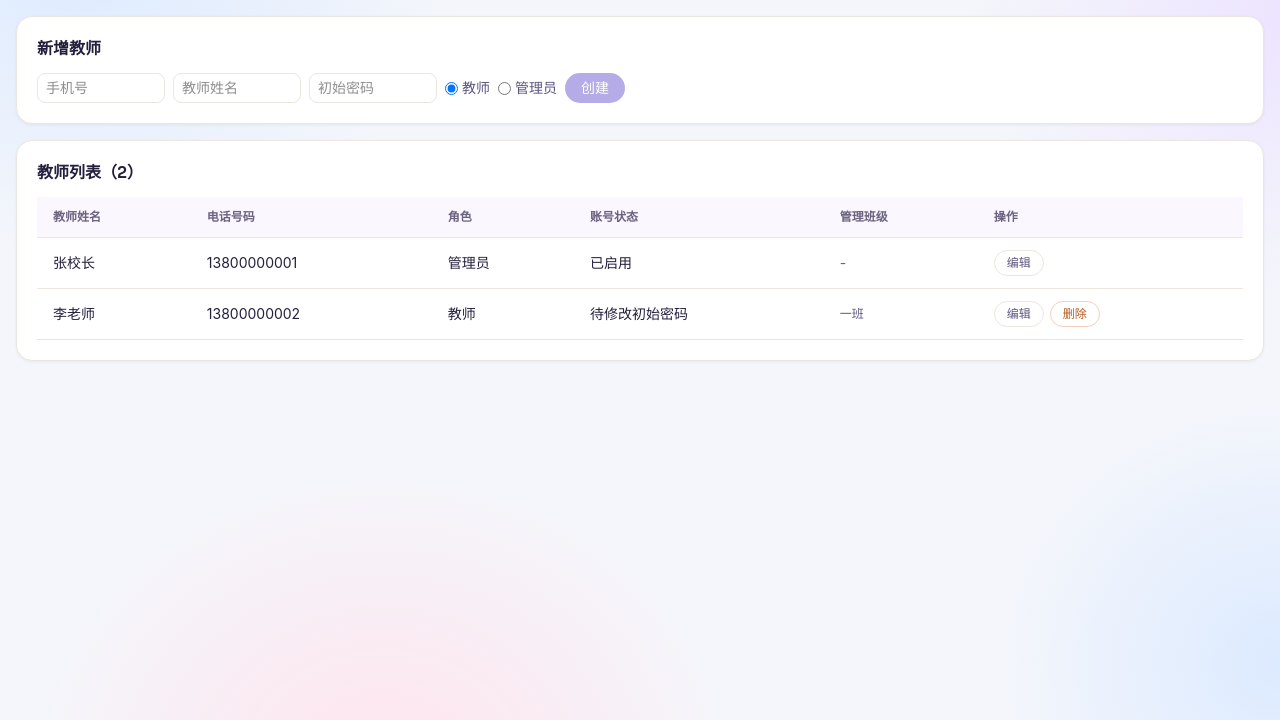
Test: AdminTeachersModule › fetches deletion impact and opens the modal when delete is clicked
Expected: the text "13800000001" is shown, [191, 238, 432, 288]
What coordinates should you click on to do the following:
click the button with aria-label "删除教师李老师"
I would click on:
 (1075, 314)
Its box is [1050, 301, 1100, 327].
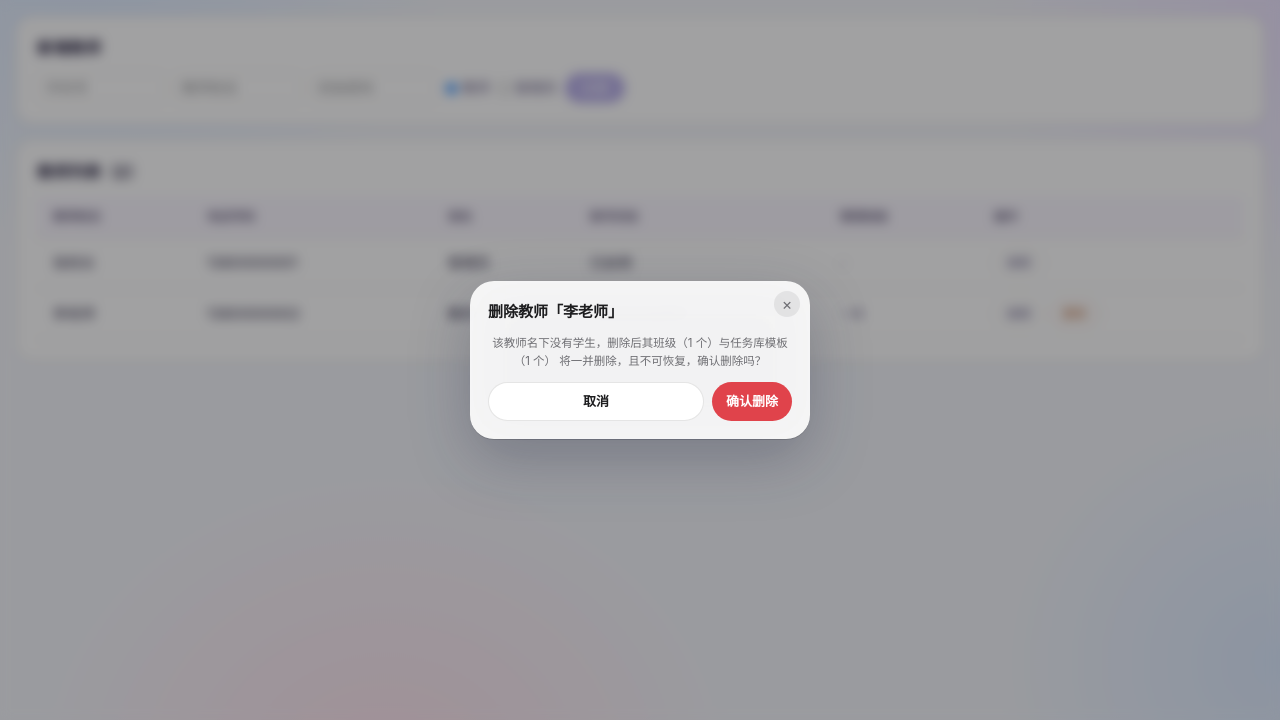
Now the text "该教师名下没有学生，删除后其班级（1 个）与任务库模板（1 个） 将一并删除，且不可恢复，确认删除吗？" is shown, box [488, 335, 792, 370]
